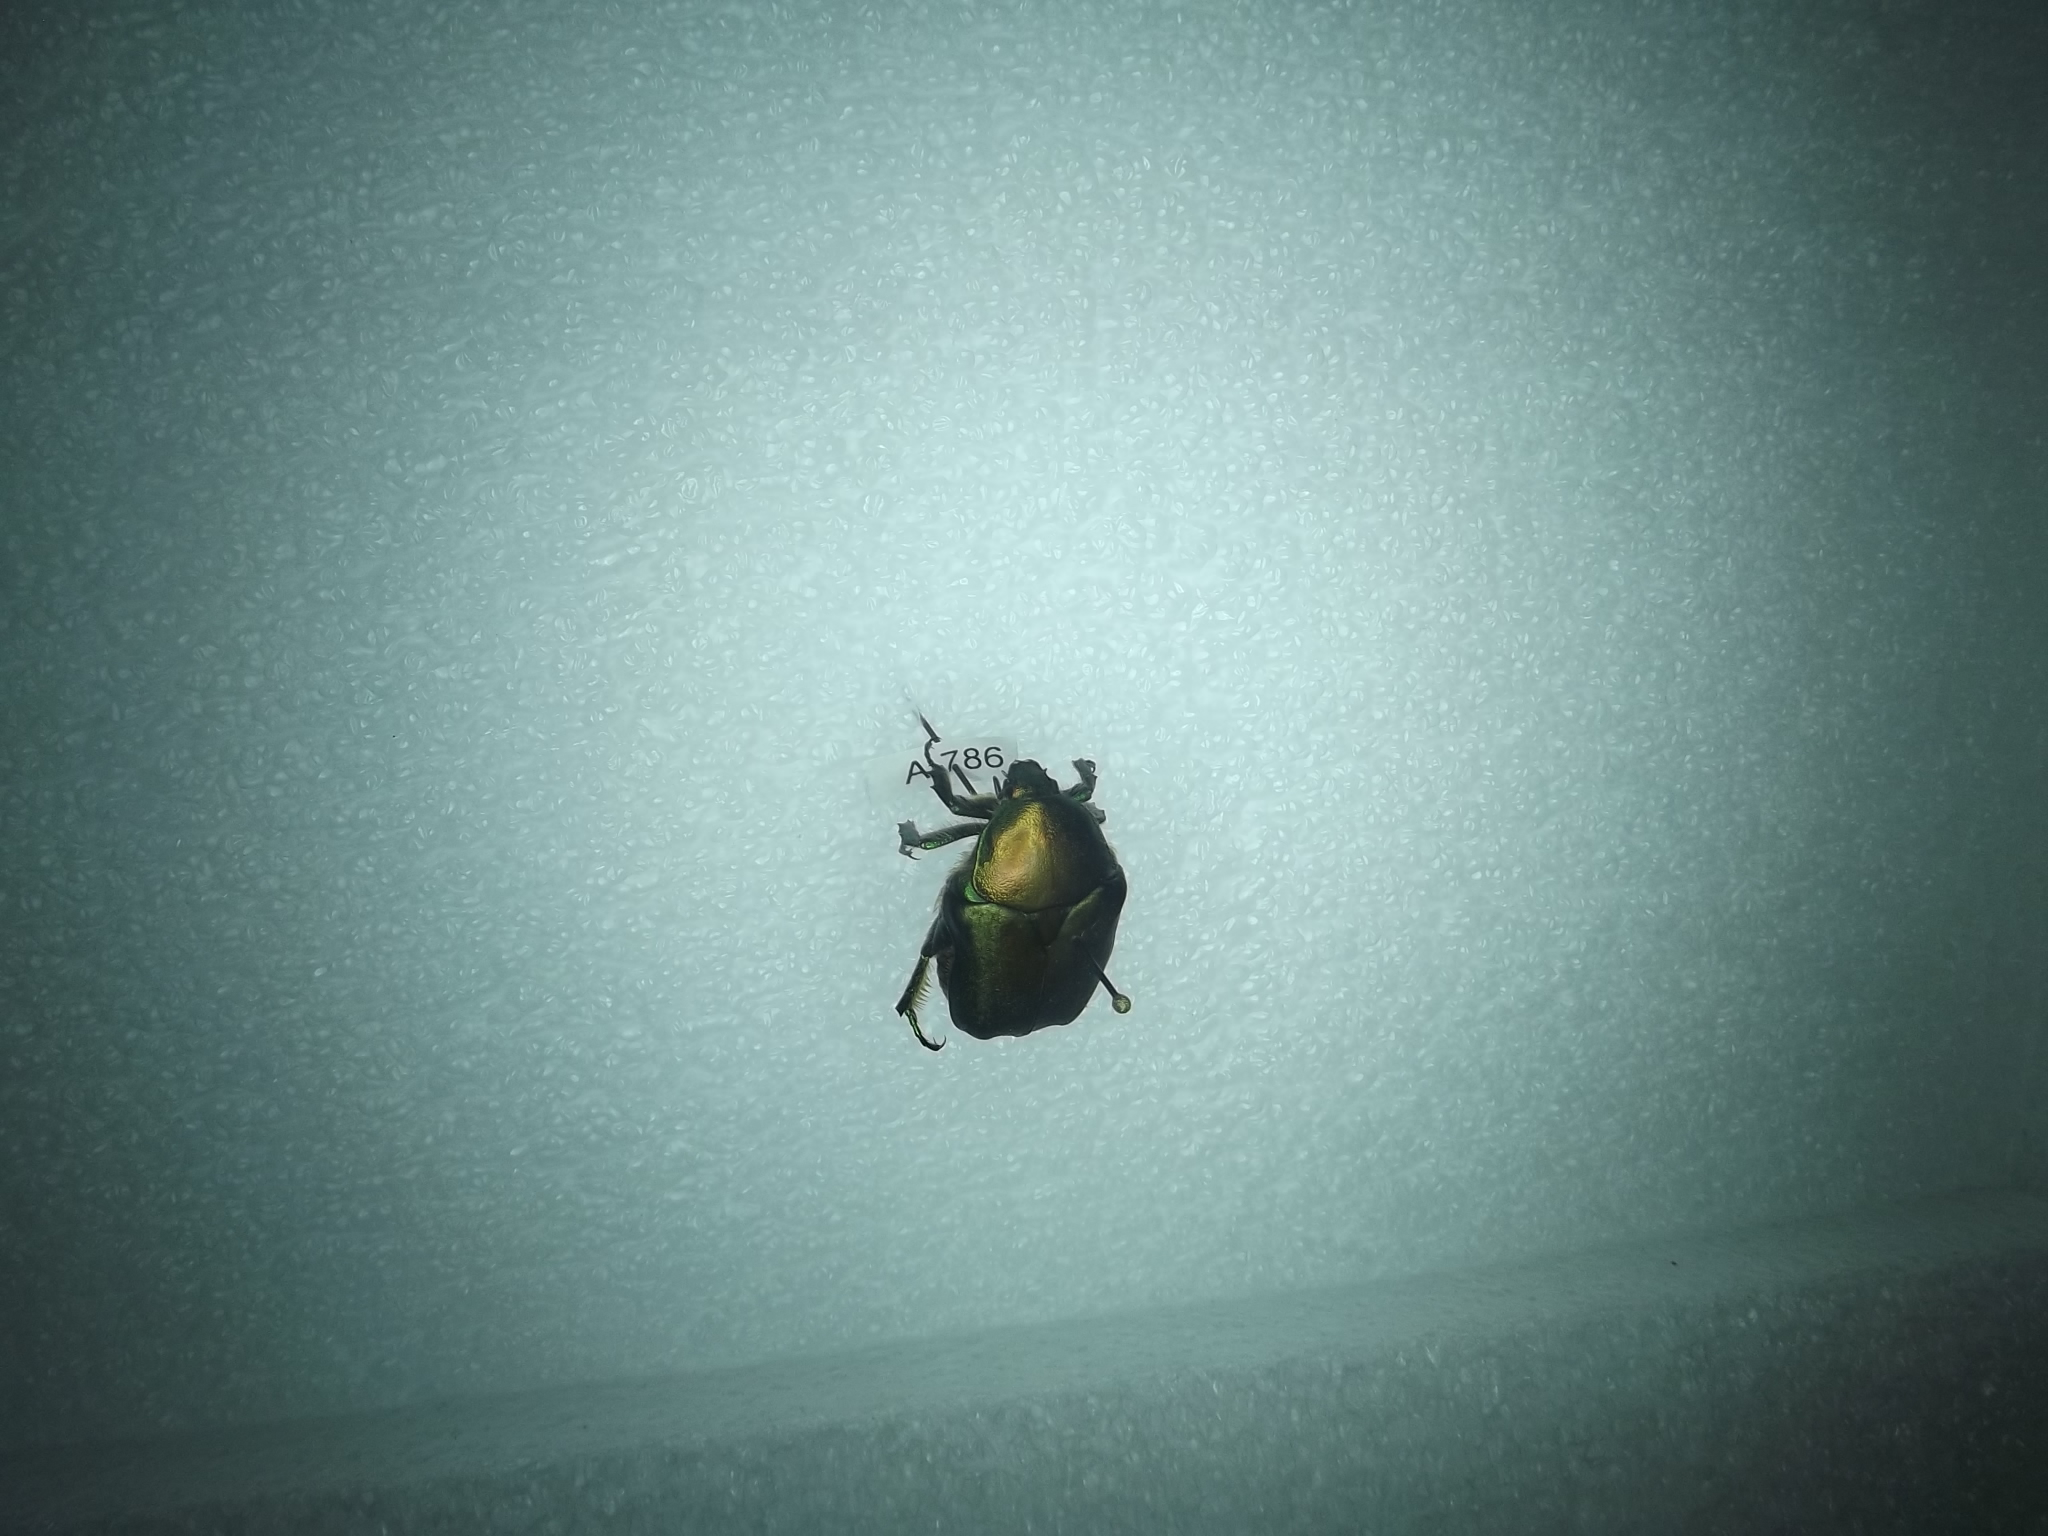Protaetia_ungarica_americana: (868, 705, 1138, 1058)
